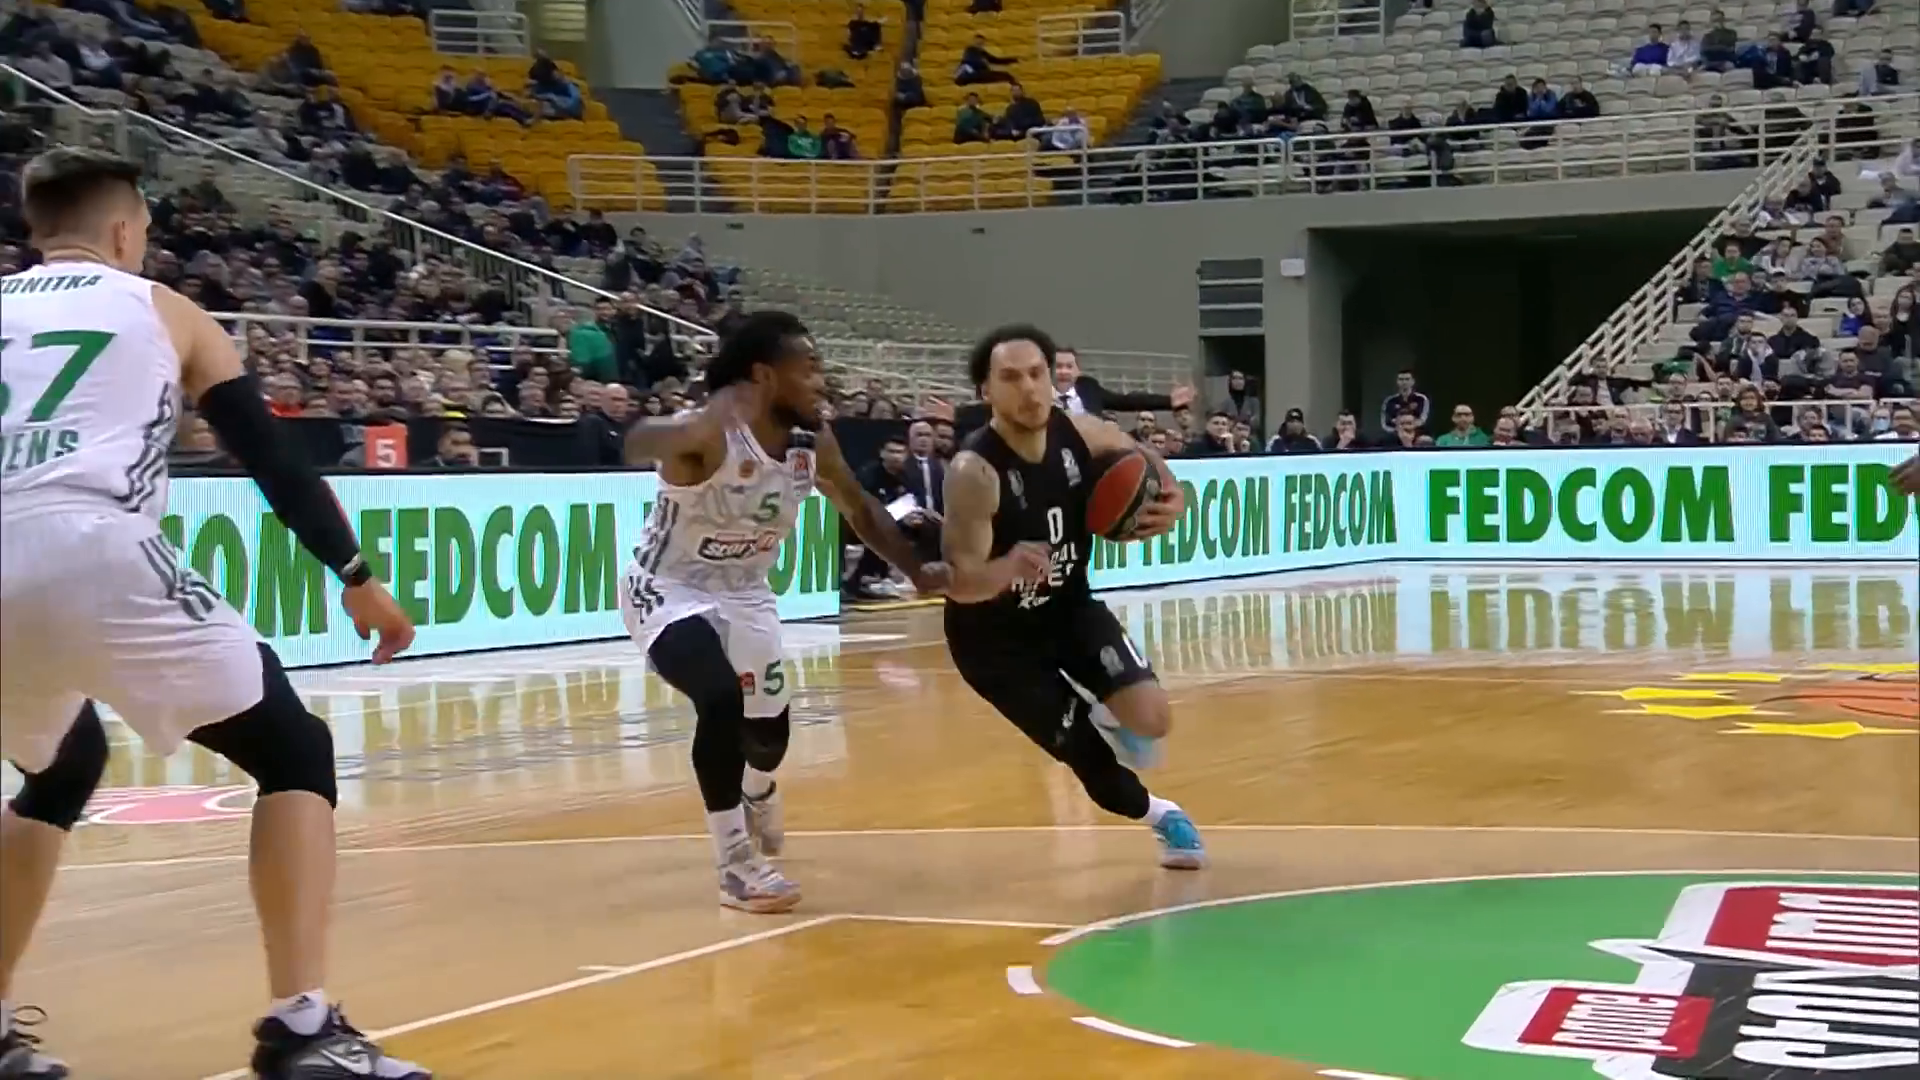ball: (1073, 443, 1178, 545)
